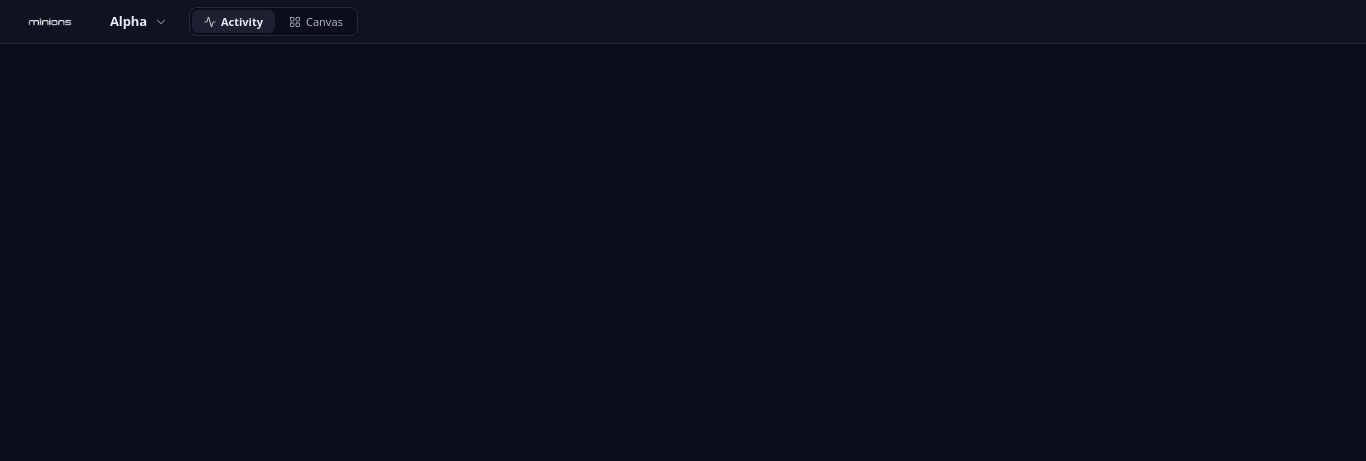
ProjectHeader project navigation › previews active leaders in their workspace and caps the visible roster
The image size is (1366, 461).
Click the button "Alpha" at (138, 22), box top-left (99, 6), bottom-right (177, 37)
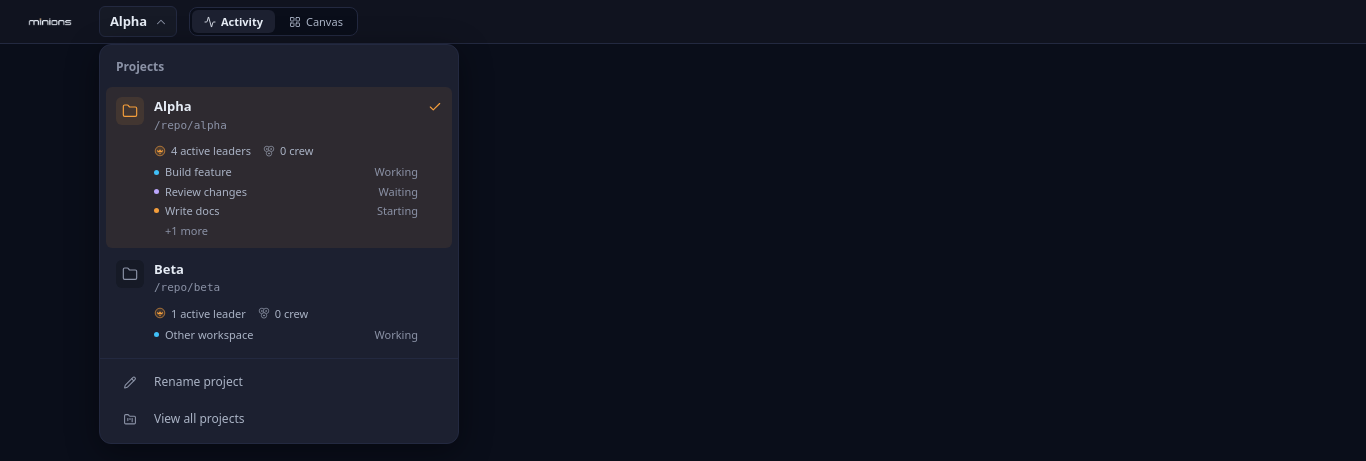
Check: the text "4 active leaders" is shown, box top-left (154, 143), bottom-right (251, 158)
Check: the 1st text "0 crew" is shown, box top-left (263, 143), bottom-right (314, 158)
Check: the text "Build feature" is shown, box top-left (165, 164), bottom-right (232, 179)
